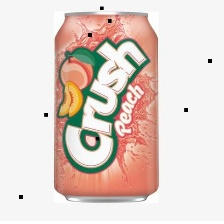can: (50, 8, 162, 205)
